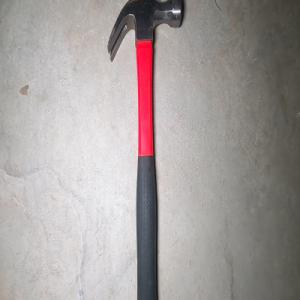Hammer: (106, 0, 182, 300)
